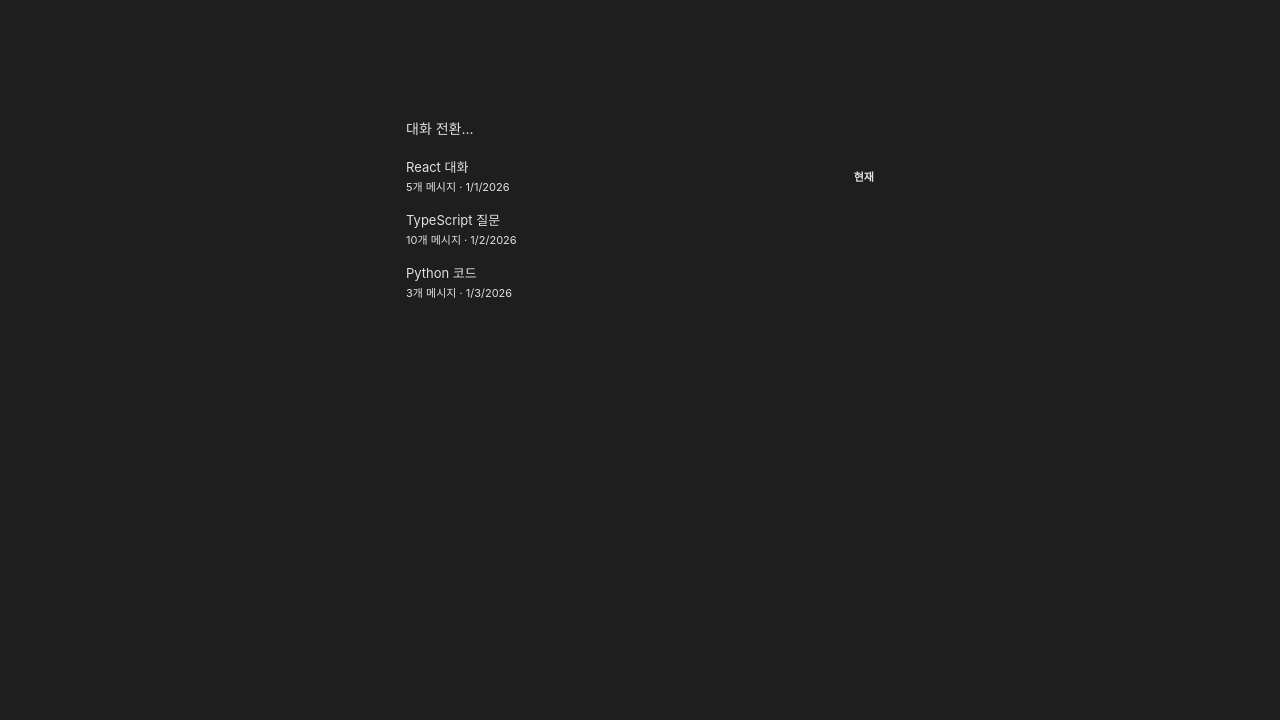
Scenario: QuickSwitcher › shows empty state when no matches
The width and height of the screenshot is (1280, 720).
Type "nonexistent" into the field named "대화 검색". click: point(640, 128)
box: left=390, top=108, right=890, bottom=149
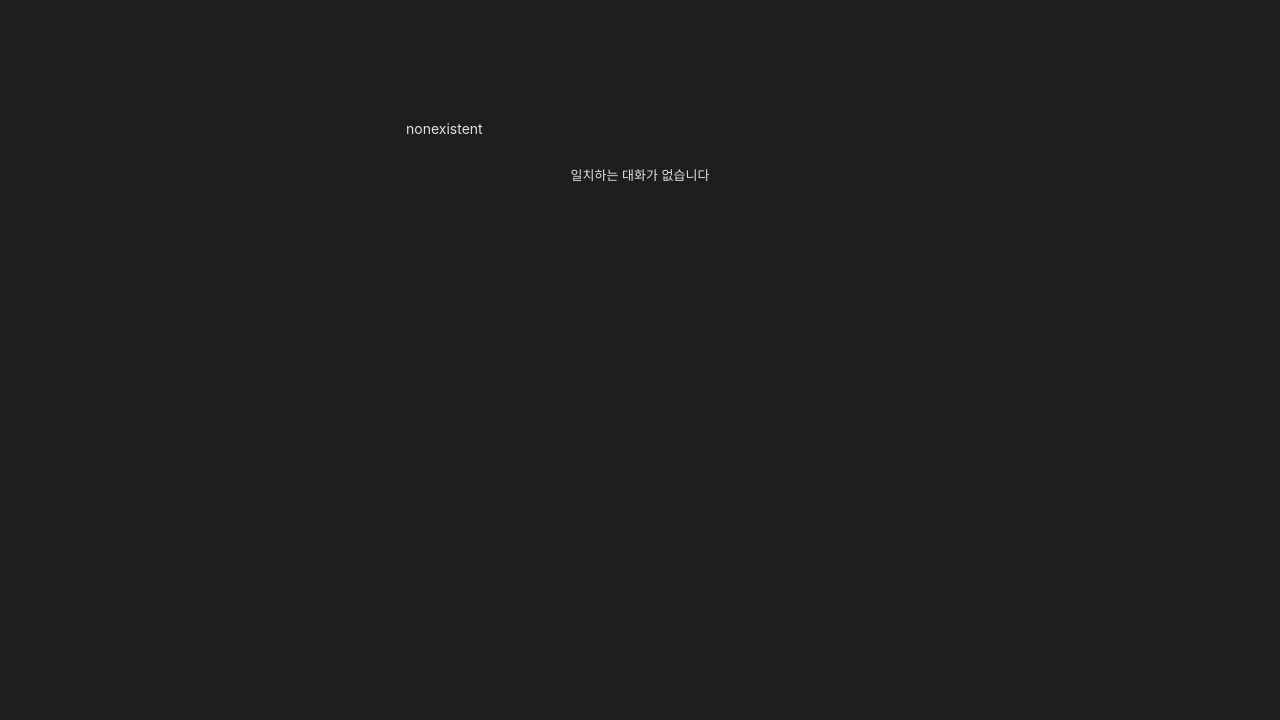
Check: the text "일치하는 대화가 없습니다" is shown, box left=571, top=167, right=710, bottom=183
